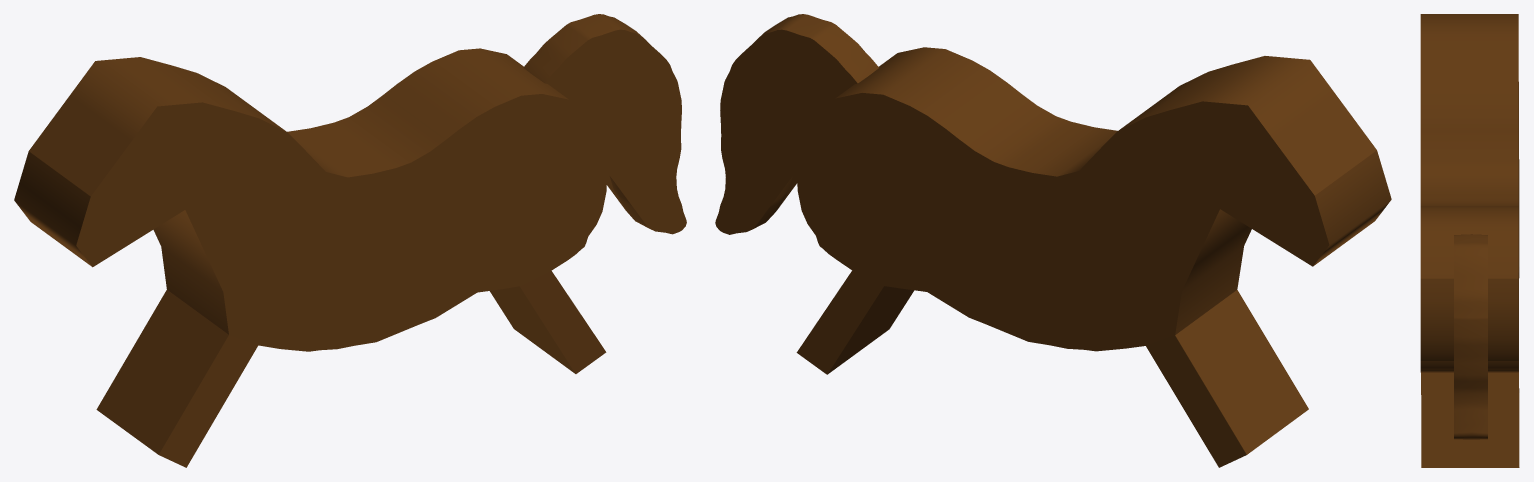
Rendered from WoodenHorse.fbx.
3 renders of one model, left to right at view 1: azimuth 30°, elevation 25°; view 2: azimuth 150°, elevation 25°; view 3: azimuth 270°, elevation 25°, orthographic. The views are drawn at different scales.
Parts seen in each view (by area): view 1: pCube6; view 2: pCube6; view 3: pCube6.
Part boxes in pixels (<box>): pCube6: <box>14,14,686,467</box>; pCube6: <box>715,14,1391,467</box>; pCube6: <box>1420,14,1519,467</box>.
Bounding box in the file's own units: 110 × 61.71 × 18.94.
